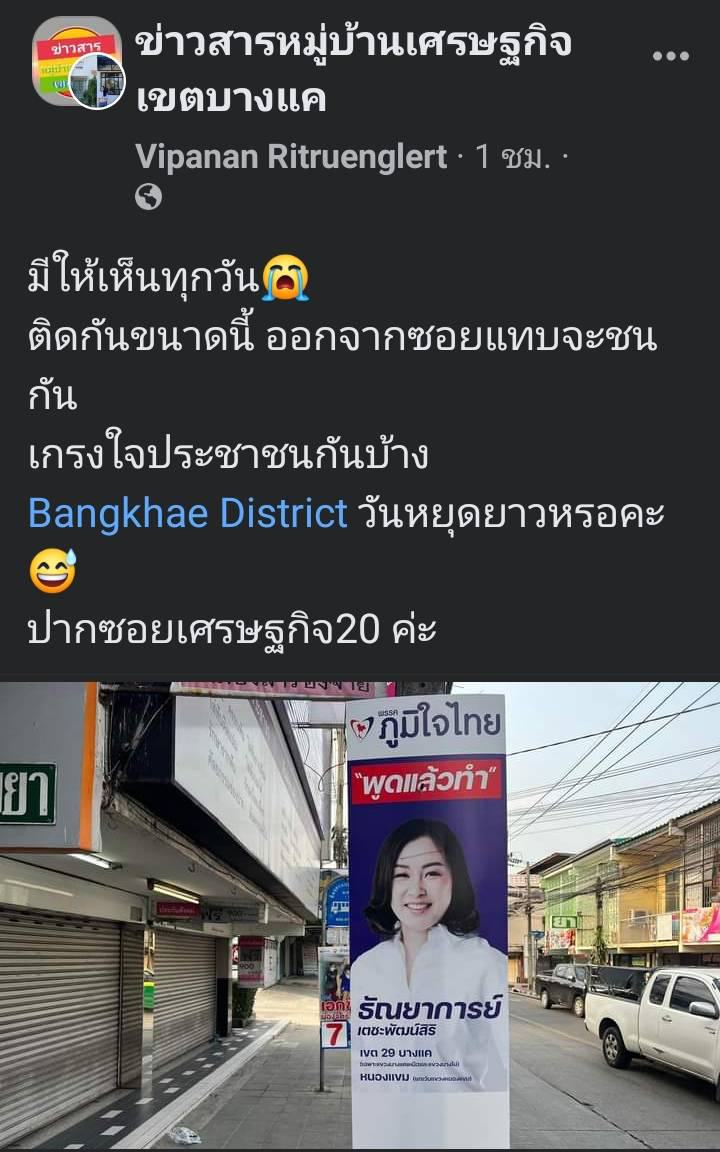Banner: (337, 689, 511, 1152)
